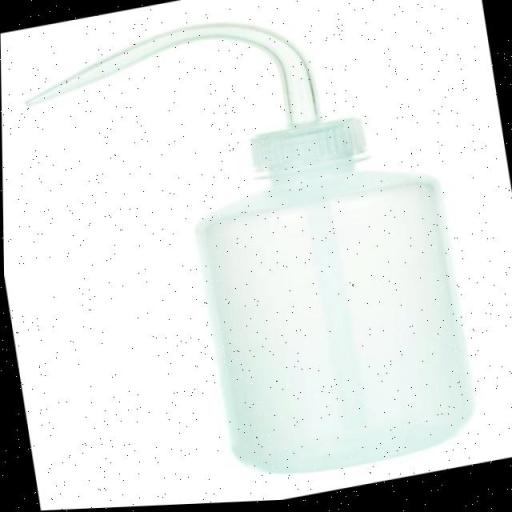plastic: (15, 0, 478, 511)
